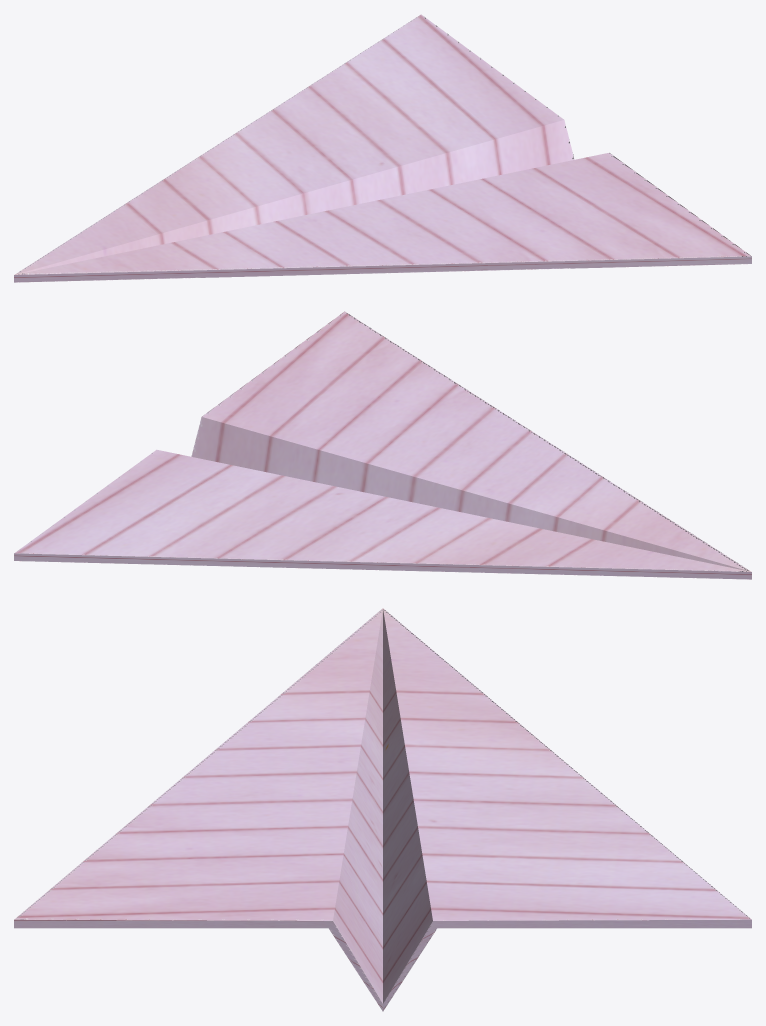
File: Paperplane_pink.FBX
3 views of the same model, one above another, from view 1: azimuth 30°, elevation 25°; view 2: azimuth 150°, elevation 25°; view 3: azimuth 270°, elevation 25° (orthographic). The views are drawn at different scales.
Parts seen in each view (by area): view 1: Paperplane_pink; view 2: Paperplane_pink; view 3: Paperplane_pink.
Boxes of the visible parts, bbox=[...] form: Paperplane_pink: bbox=[14, 14, 751, 282]; Paperplane_pink: bbox=[14, 311, 751, 579]; Paperplane_pink: bbox=[14, 608, 751, 1011].
Size of the model in its own units: 8.22 by 1.13 by 8.21.
Materials: 1 (1 with a texture image).
